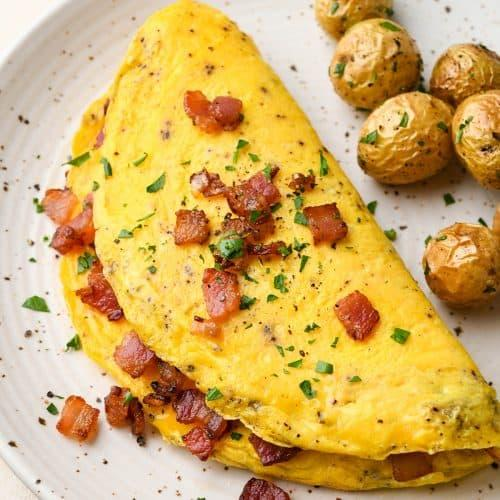omelette: (102, 58, 413, 500)
